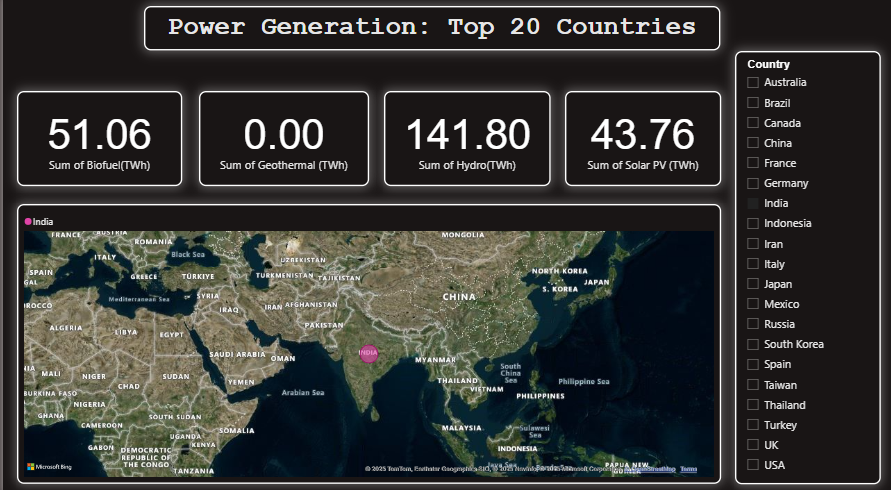

What the dashboard file says about the page in this screenshot:
{"tool":"powerbi","page":{"name":"Top 20 Countries","canvas":[1280,720],"ordinal":2},"visuals":[{"type":"textbox","box":[202.7,15.6,829.7,64.1],"z":0},{"type":"map","fields":{"Category":["top20CountriesPowerGeneration.Country"],"Series":["top20CountriesPowerGeneration.Country"],"Size":["Sum(top20CountriesPowerGeneration.Total (TWh))"]},"box":[20.2,301,1013.8,403.2],"z":1000},{"type":"slicer","fields":{"Values":["top20CountriesPowerGeneration.Country"]},"box":[1054.1,80.6,210.2,623.5],"z":2000},{"type":"card","fields":{"Values":["Sum(top20CountriesPowerGeneration.Biofuel(TWh))"]},"box":[20.2,138.2,237.6,136.8],"z":3000},{"type":"card","fields":{"Values":["Sum(top20CountriesPowerGeneration.Geothermal (TWh))"]},"box":[282.2,138.2,244.8,136.8],"z":4000},{"type":"card","fields":{"Values":["Sum(top20CountriesPowerGeneration.Solar PV (TWh))"]},"box":[809.3,138.2,224.6,136.8],"z":5000},{"type":"card","fields":{"Values":["Sum(top20CountriesPowerGeneration.Hydro(TWh))"]},"box":[548.6,138.2,240.5,136.8],"z":6000}]}

Visuals, with their boxes in screenshot pixels (x1, y1, x2, y2), scaled from the page's 1280x720 canvas onto the 891x490 screenshot:
textbox: <region>141, 11, 719, 54</region>
map - top20CountriesPowerGeneration.Country x top20CountriesPowerGeneration.Country: <region>14, 205, 720, 479</region>
slicer - top20CountriesPowerGeneration.Country: <region>734, 55, 880, 479</region>
card - Sum(top20CountriesPowerGeneration.Biofuel(TWh)): <region>14, 94, 179, 187</region>
card - Sum(top20CountriesPowerGeneration.Geothermal (TWh)): <region>196, 94, 367, 187</region>
card - Sum(top20CountriesPowerGeneration.Solar PV (TWh)): <region>563, 94, 720, 187</region>
card - Sum(top20CountriesPowerGeneration.Hydro(TWh)): <region>382, 94, 549, 187</region>
